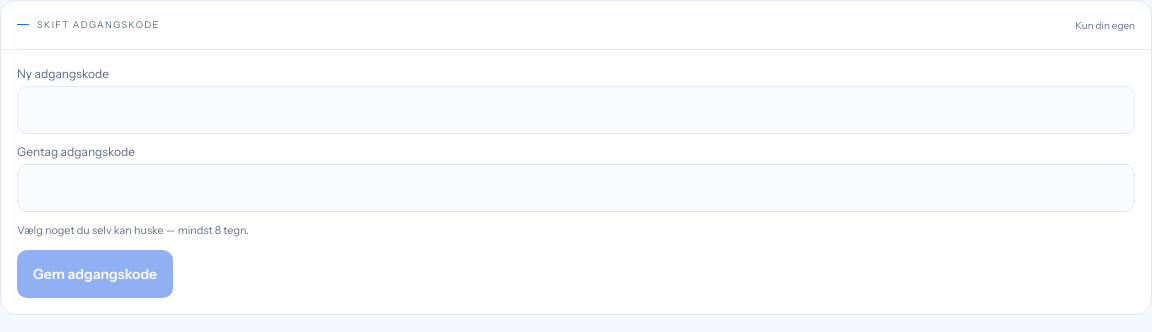
changing your own password › passes the server’s own refusal through
Type "erhvervsklub2026" into the password field labelled "Ny adgangskode" at (576, 110), box [17, 86, 1135, 134]
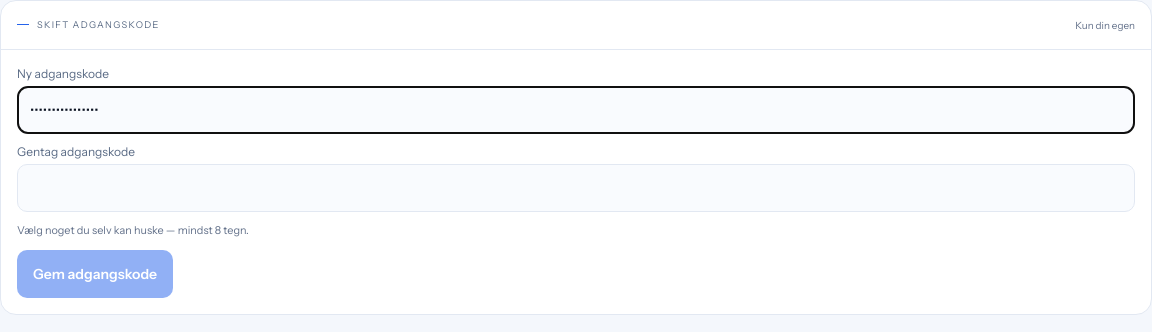
Type "erhvervsklub2026" into the password field labelled "Gentag adgangskode" at (576, 188), box [17, 164, 1135, 212]
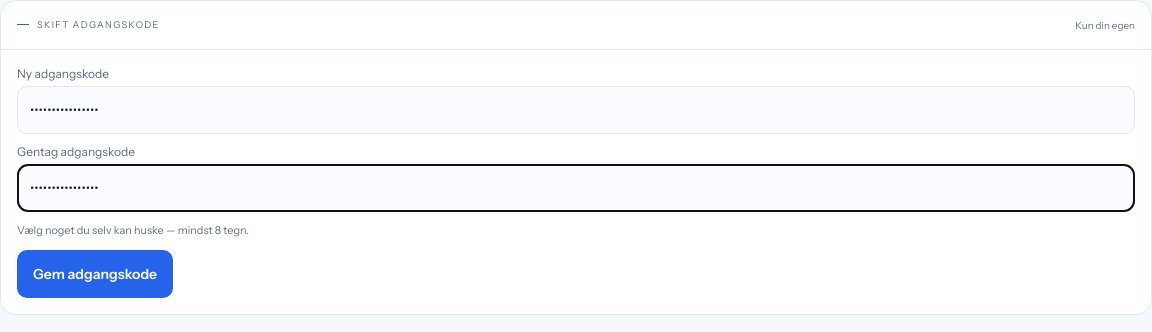
Click the button "Gem adgangskode" at (95, 274), box [17, 250, 173, 298]
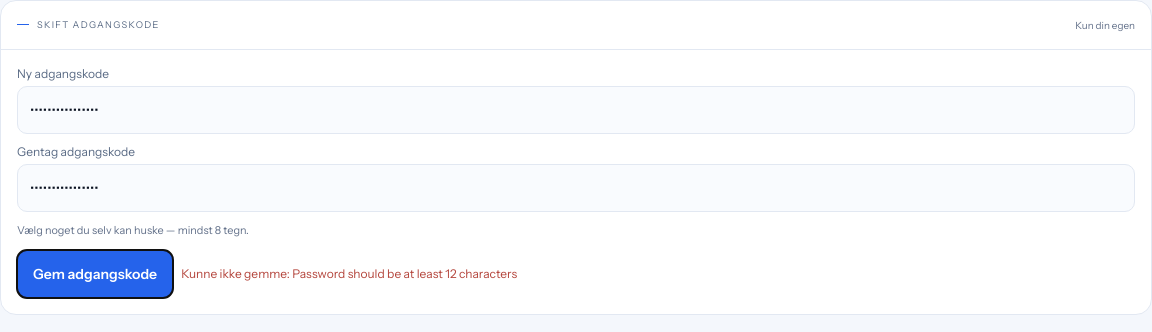
Expected: the message "Kunne ikke gemme: Password should be at least 12 characters" is shown, [181, 266, 517, 282]
